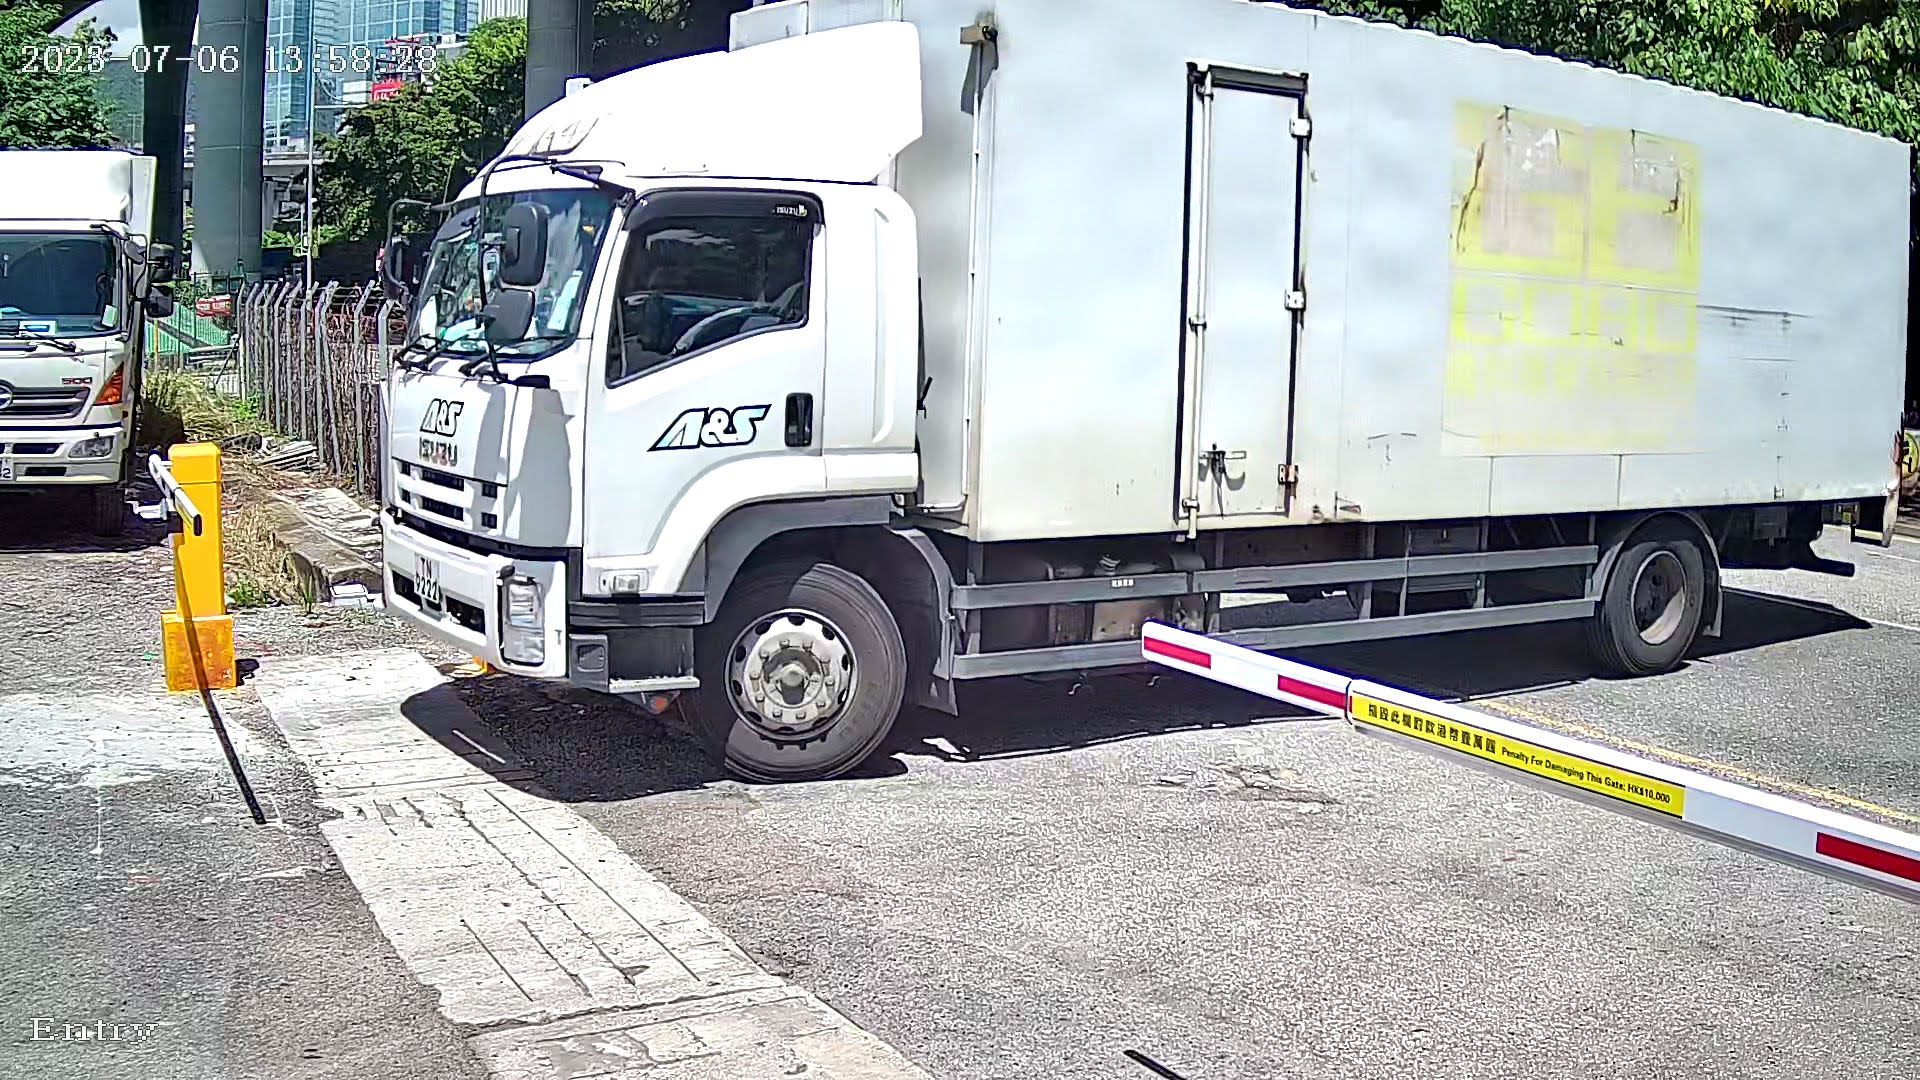truck_large: (349, 11, 1920, 837)
